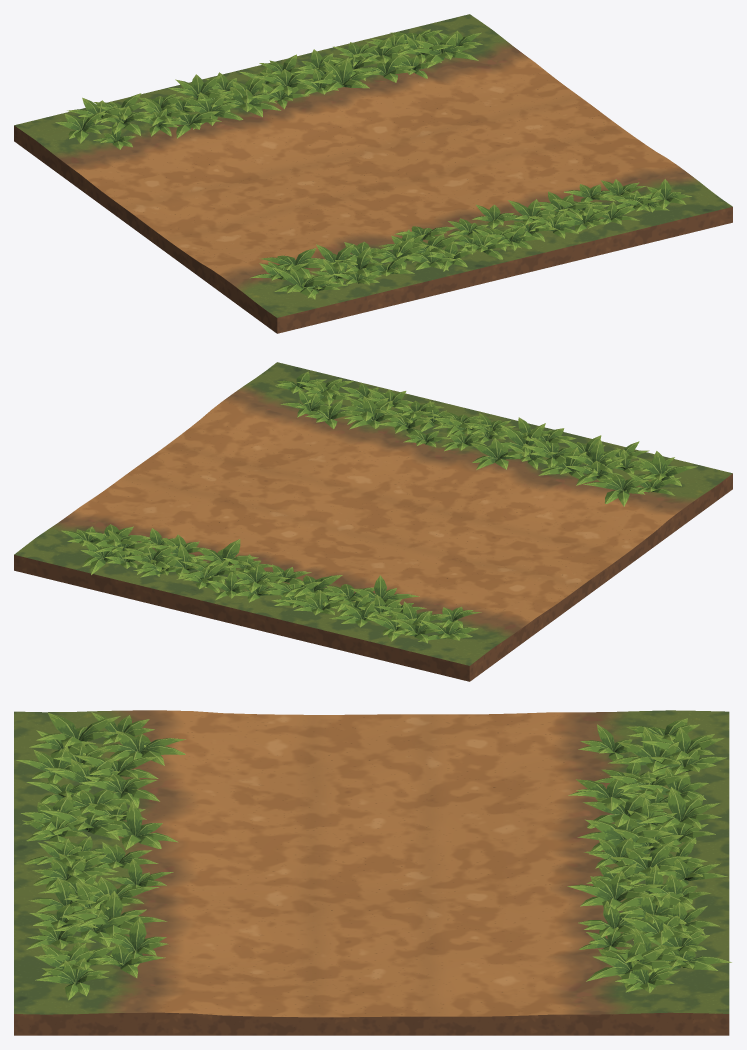
The model's file is ground_road_tile.glb.
The picture shows the model from 3 angles, top to bottom: view 1: azimuth 30°, elevation 25°; view 2: azimuth 150°, elevation 25°; view 3: azimuth 270°, elevation 25°; orthographic projection. The views are drawn at different scales.
Parts seen in each view (by area): view 1: ground_road_tile_ground_surface, ground_road_tile_edge_vegetation_cards; view 2: ground_road_tile_ground_surface, ground_road_tile_edge_vegetation_cards; view 3: ground_road_tile_ground_surface, ground_road_tile_edge_vegetation_cards.
Boxes of the visible parts, x1,y1,x2,y2 form: ground_road_tile_ground_surface: (14, 14, 732, 333); ground_road_tile_edge_vegetation_cards: (55, 29, 691, 299); ground_road_tile_ground_surface: (14, 362, 732, 681); ground_road_tile_edge_vegetation_cards: (61, 371, 697, 643); ground_road_tile_ground_surface: (14, 710, 729, 1035); ground_road_tile_edge_vegetation_cards: (16, 712, 731, 1000).
Size of what is drawn, in the model's own units: 6 by 0.3854 by 6.03.
Materials: 3 (3 with a texture image).
